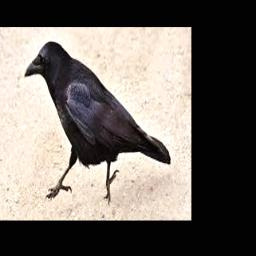Crow: (24, 41, 171, 203)
